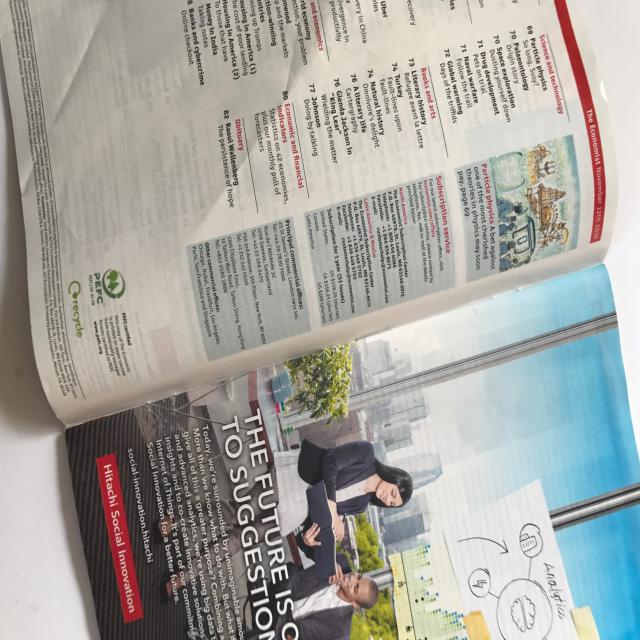paper: (2, 0, 620, 428)
